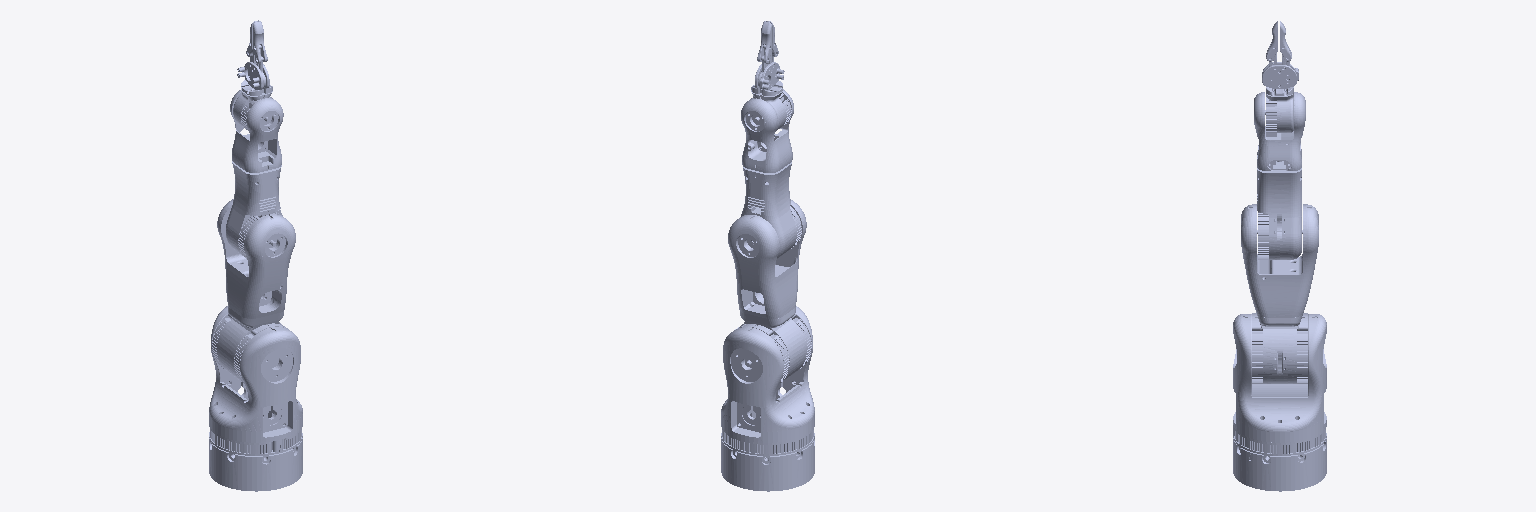
--- Render facts (derived) ---
The picture shows the robot from 3 angles, left to right: view 1: azimuth 30°, elevation 25°; view 2: azimuth 150°, elevation 25°; view 3: azimuth 270°, elevation 25°; orthographic projection.
Model rbx1_urdf with 15 links and 14 joints (8 revolute, 4 continuous, 2 fixed), rooted at base_footprint, posed every joint at zero.
Visible links, largest first — view 1: Link_1, Link_2, base_link, Link_4, Link_3, Link_Gripper, Link_5; view 2: Link_1, Link_2, base_link, Link_3, Link_4, Link_Gripper, Link_5; view 3: Link_2, Link_1, Link_3, base_link, Link_4, Link_5, Link_Gripper.
Boxes of the visible links, x1,y1,x2,y2 form: Link_1: (209,306,302,455); Link_2: (212,199,295,382); base_link: (209,438,302,491); Link_4: (230,90,283,172); Link_3: (226,161,282,258); Link_Gripper: (237,62,272,95); Link_5: (233,90,272,130); Link_1: (721,306,814,455); Link_2: (728,200,811,382); base_link: (721,438,814,491); Link_3: (741,162,801,258); Link_4: (741,90,793,172); Link_Gripper: (751,62,784,95); Link_5: (750,89,791,131); Link_2: (1241,204,1318,383); Link_1: (1233,314,1326,455); Link_3: (1257,168,1302,259); base_link: (1233,438,1326,491); Link_4: (1254,92,1305,170); Link_5: (1265,93,1293,132); Link_Gripper: (1262,62,1298,95).
Size in the robot's own frame: 0.16 by 0.16 by 0.8502 metres.
Meshes: 14 distinct files referenced, 14 mesh visuals loaded (14 binary STL).

robot.urdf — rbx1_urdf:
<robot name="rbx1_urdf">

    <link name="base_footprint" />

    <link name="base_link">
        <visual>
            <origin xyz="0 0 0" rpy="0 0 0" />
            <geometry>
                <mesh filename="package://rbx1_urdf/meshes/base_link.STL" />
            </geometry>
            <material name="">
                <color rgba="0.792156862745098 0.819607843137255 0.933333333333333 1" />
            </material>
        </visual>
        <collision>
            <origin xyz="0 0 0" rpy="0 0 0" />
            <geometry>
                <mesh filename="package://rbx1_urdf/meshes/base_link.STL" />
            </geometry>
        </collision>
        <inertial>
            <mass value="0.1" />
            <inertia ixx="0.03" iyy="0.03" izz="0.03" ixy="0.0" ixz="0.0" iyz="0.0" />
        </inertial>
    </link>
    <link name="Link_1">
        
        <inertial>
            <origin xyz="9.04997110390271E-05 -0.11835886489477 -1.03110880117219E-05" rpy="0 0 0" />
            <mass value="1.59870477698065" />
            <inertia ixx="0.00889558917774968" ixy="-9.83059909185543E-06" ixz="-1.11290572659371E-07" iyy="0.00628978480890219" iyz="2.53377512999986E-10" izz="0.0104429435232975" />
        </inertial>

        <visual>
            <origin xyz="0 0 0" rpy="0 0 0" />
            <geometry>
                <mesh filename="package://rbx1_urdf/meshes/Link_1.STL" />
            </geometry>
            <material name="">
                <color rgba="0.792156862745098 0.819607843137255 0.933333333333333 1" />
            </material>
        </visual>
        <collision>
            <origin xyz="0 0 0" rpy="0 0 0" />
            <geometry>
                <mesh filename="package://rbx1_urdf/meshes/Link_1.STL" />
            </geometry>
        </collision>
    </link>

    <joint name="Joint_0" type="fixed">
        <origin xyz="0 0 0.0309" />
        <parent link="base_footprint" />
        <child link="base_link" />
    </joint>

    <joint name="Joint_1" type="revolute">
        <origin xyz="0 0 0.0309" rpy="-1.5708 -3.8551E-17 1.5708" />
        <parent link="base_link" />
        <child link="Link_1" />
        <axis xyz="0 -1 0" />
        <limit lower="-2.0944" upper="2.0944" effort="0" velocity="0.2" />
    </joint>
    <link name="Link_2">
        
<inertial>
            <origin xyz="-0.0752469214973449 -0.000500019087013304 0.00801565213983907" rpy="0 0 0" />
            <mass value="1.79157969898053" />
            <inertia ixx="0.00352142476542667" ixy="-6.44382134269422E-05" ixz="0.00133900684156435" iyy="0.015584705901927" iyz="6.30277961531298E-06" izz="0.0160835270899943" />
        </inertial>

        <visual>
            <origin xyz="0 0 0" rpy="0 0 0" />
            <geometry>
                <mesh filename="package://rbx1_urdf/meshes/Link_2.STL" />
            </geometry>
            <material name="">
                <color rgba="0.792156862745098 0.819607843137255 0.933333333333333 1" />
            </material>
        </visual>
        <collision>
            <origin xyz="0 0 0" rpy="0 0 0" />
            <geometry>
                <mesh filename="package://rbx1_urdf/meshes/Link_2.STL" />
            </geometry>
        </collision>
    </link>
    <joint name="Joint_2" type="revolute">
        <origin xyz="0 -0.20101 0" rpy="-3.7985E-15 -0.11192 1.5708" />
        <parent link="Link_1" />
        <child link="Link_2" />
        <axis xyz="0 -1 0" />
        <limit lower="-2.2" upper="2.2" effort="0" velocity="0.2" />
    </joint>
    <link name="Link_3">
        
<inertial>
            <origin xyz="-0.023523909117978 -0.000262425638498542 0.0293343651247101" rpy="0 0 0" />
            <mass value="0.657902225276796" />
            <inertia ixx="0.00143523552046151" ixy="5.67208849821963E-06" ixz="0.000616952504524279" iyy="0.00196412953468847" iyz="-7.12192573745459E-06" izz="0.00115362138792626" />
        </inertial>

        <visual>
            <origin xyz="0 0 0" rpy="0 0 0" />
            <geometry>
                <mesh filename="package://rbx1_urdf/meshes/Link_3.STL" />
            </geometry>
            <material name="">
                <color rgba="0.792156862745098 0.819607843137255 0.933333333333333 1" />
            </material>
        </visual>
        <collision>
            <origin xyz="0 0 0" rpy="0 0 0" />
            <geometry>
                <mesh filename="package://rbx1_urdf/meshes/Link_3.STL" />
            </geometry>
        </collision>
    </link>
    <joint name="Joint_3" type="revolute">
        <origin xyz="-0.21989 0 0.023345" rpy="-3.138 1.0089 0.0028034" />
        <parent link="Link_2" />
        <child link="Link_3" />
        <axis xyz="0 1 0" />
        <limit lower="-2.0944" upper="2.0944" effort="0" velocity="0.2" />
    </joint>
    <link name="Link_4">
        
<inertial>
            <origin xyz="-0.000480737416575283 -0.112984441555406 -0.000795364680788613" rpy="0 0 0" />
            <mass value="0.262000579378337" />
            <inertia ixx="0.000528509489468703" ixy="5.97380313581293E-06" ixz="1.89930990415442E-05" iyy="0.000284758336308065" iyz="8.46523202702657E-06" izz="0.0006021862445562" />
        </inertial>

        <visual>
            <origin xyz="0 0 0" rpy="0 0 0" />
            <geometry>
                <mesh filename="package://rbx1_urdf/meshes/Link_4.STL" />
            </geometry>
            <material name="">
                <color rgba="0.792156862745098 0.819607843137255 0.933333333333333 1" />
            </material>
        </visual>
        <collision>
            <origin xyz="0 0 0" rpy="0 0 0" />
            <geometry>
                <mesh filename="package://rbx1_urdf/meshes/Link_4.STL" />
            </geometry>
        </collision>
    </link>
    <joint name="Joint_4" type="revolute">
        <origin xyz="-0.043107 -0.00047146 0.054003" rpy="-0.91055 -0.14511 -1.3867" />
        <parent link="Link_3" />
        <child link="Link_4" />
        <axis xyz="0 -1 0" />
        <limit lower="-3.14159" upper="3.14159" effort="0" velocity="0.2" />
    </joint>
    <link name="Link_5">
        
<inertial>
            <origin xyz="0.00035860029323162 0.000462370431148607 0.0012074660441439" rpy="0 0 0" />
            <mass value="0.129980261281605" />
            <inertia ixx="6.97993885726989E-05" ixy="-5.95275086351691E-08" ixz="7.69507223431339E-07" iyy="8.40300167150342E-05" iyz="7.6448541105621E-07" izz="7.060027819932E-05" />
        </inertial>

        <visual>
            <origin xyz="0 0 0" rpy="0 0 0" />
            <geometry>
                <mesh filename="package://rbx1_urdf/meshes/Link_5.STL" />
            </geometry>
            <material name="">
                <color rgba="0.792156862745098 0.819607843137255 0.933333333333333 1" />
            </material>
        </visual>
        <collision>
            <origin xyz="0 0 0" rpy="0 0 0" />
            <geometry>
                <mesh filename="package://rbx1_urdf/meshes/Link_5.STL" />
            </geometry>
        </collision>
    </link>
    <joint name="Joint_5" type="revolute">
        <origin xyz="0 -0.157 0" rpy="1.5654 1.3362 3.1361" />
        <parent link="Link_4" />
        <child link="Link_5" />
        <axis xyz="0 1 0" />
        <limit lower="-2.00713" upper="2.00713" effort="0" velocity="0.2" />
    </joint>
    <link name="Link_6">
        
<inertial>
            <origin xyz="-3.64212066061853E-09 0.0199999999996755 4.35396996234516E-11" rpy="0 0 0" />
            <mass value="0.00201061929829747" />
            <inertia ixx="2.7612505029952E-07" ixy="1.31945770970693E-16" ixz="2.64697796016969E-23" iyy="1.60849543863798E-08" iyz="2.07579092561171E-19" izz="2.76125050299521E-07" />
        </inertial>

        <visual>
            <origin xyz="0 0 0" rpy="0 0 0" />
            <geometry>
                <mesh filename="package://rbx1_urdf/meshes/Link_6.STL" />
            </geometry>
            <material name="">
                <color rgba="0.792156862745098 0.819607843137255 0.933333333333333 1" />
            </material>
        </visual>
        <collision>
            <origin xyz="0 0 0" rpy="0 0 0" />
            <geometry>
                <mesh filename="package://rbx1_urdf/meshes/Link_6.STL" />
            </geometry>
        </collision>
    </link>
    <joint name="Joint_6" type="revolute">
        <origin xyz="0 0 -0.0095" rpy="-1.5708 -1.214E-15 1.5692" />
        <parent link="Link_5" />
        <child link="Link_6" />
        <axis xyz="0 1 0" />
        <limit lower="-3.14159" upper="3.14159" effort="0" velocity="0.2" />
    </joint>
    <link name="Link_Gripper">
        
<inertial>
            <origin xyz="0.0144880330223051 0.0207918931252273 0.0465067040652264" rpy="0 0 0" />
            <mass value="0.0321023588672998" />
            <inertia ixx="9.36130788952155E-06" ixy="-2.09719874613005E-08" ixz="7.20375545414964E-08" iyy="1.49516550450015E-05" iyz="-1.25070144104161E-07" izz="1.13986305198369E-05" />
        </inertial>

        <visual>
            <origin xyz="0 0 0" rpy="0 0 0" />
            <geometry>
                <mesh filename="package://rbx1_urdf/meshes/Link_Gripper.STL" />
            </geometry>
            <material name="">
                <color rgba="0.792156862745098 0.819607843137255 0.933333333333333 1" />
            </material>
        </visual>
        <collision>
            <origin xyz="0 0 0" rpy="0 0 0" />
            <geometry>
                <mesh filename="package://rbx1_urdf/meshes/Link_Gripper.STL" />
            </geometry>
        </collision>
    </link>
    <joint name="Joint_Grippper" type="fixed">
        <origin xyz="-0.0148522442394708 0.00482931437037815 0.0202321887443363" rpy="-1.5707962336435 0.000305207132015297 0.000305207160447832" />
        <parent link="Link_6" />
        <child link="Link_Gripper" />
        <axis xyz="0 0 0" />
    </joint>
    <link name="Link_Grip_Servo">
        
<inertial>
            <origin xyz="-0.000594334300579258 0.005983834364434 0.00631487709029044" rpy="0 0 0" />
            <mass value="0.00497129327522806" />
            <inertia ixx="9.20870244901648E-07" ixy="4.69154879147571E-11" ixz="1.26120295947165E-07" iyy="1.14024663144967E-06" iyz="-5.07455228682936E-10" izz="2.49488890628528E-07" />
        </inertial>

        <visual>
            <origin xyz="0 0 0" rpy="0 0 0" />
            <geometry>
                <mesh filename="package://rbx1_urdf/meshes/Link_Grip_Servo.STL" />
            </geometry>
            <material name="">
                <color rgba="0.792156862745098 0.819607843137255 0.933333333333333 1" />
            </material>
        </visual>
        <collision>
            <origin xyz="0 0 0" rpy="0 0 0" />
            <geometry>
                <mesh filename="package://rbx1_urdf/meshes/Link_Grip_Servo.STL" />
            </geometry>
        </collision>
    </link>
    <joint name="Joint_Grip_Servo" type="revolute">
        <origin xyz="0.0288442213189702 0.0147280634416684 0.0521488006817585" rpy="-9.78475925314596E-13 0.147046128957204 -4.52061409598828E-11" />
        <parent link="Link_Gripper" />
        <child link="Link_Grip_Servo" />
        <axis xyz="0 -1 0" />
        <limit lower="-1.57" upper="0" effort="0" velocity="1" />
    </joint>
    <link name="Link_Tip_Servo">
        
<inertial>
            <origin xyz="-0.00687374723770617 0.00580780363510508 0.0279590371014581" rpy="0 0 0" />
            <mass value="0.0104818096913555" />
            <inertia ixx="4.08347146641829E-06" ixy="-2.81245202430779E-10" ixz="6.13523728266486E-07" iyy="4.0136353887785E-06" iyz="1.4485165977E-09" izz="5.56766974307777E-07" />
        </inertial>

        <visual>
            <origin xyz="0 0 0" rpy="0 0 0" />
            <geometry>
                <mesh filename="package://rbx1_urdf/meshes/Link_Tip_Servo.STL" />
            </geometry>
            <material name="">
                <color rgba="0.792156862745098 0.819607843137255 0.933333333333333 1" />
            </material>
        </visual>
        <collision>
            <origin xyz="0 0 0" rpy="0 0 0" />
            <geometry>
                <mesh filename="package://rbx1_urdf/meshes/Link_Tip_Servo.STL" />
            </geometry>
        </collision>
    </link>
    <joint name="Joint_Tip_Servo" type="continuous">
        <origin xyz="-0.00610696516498432 -5.00001000001971E-05 0.03952347753678" rpy="2.80583764371945E-17 -0.147046129464605 -1.12233505748778E-16" />
        <parent link="Link_Grip_Servo" />
        <child link="Link_Tip_Servo" />
        <axis xyz="0 -1 0" />
        <mimic joint="Joint_Grip_Servo" multiplier="-1" offset="0" />
    </joint>
    <link name="Link_Grip_Servo_Arm">
        
<inertial>
            <origin xyz="-0.000103223626561066 0.00675801833847722 0.0187976491011368" rpy="0 0 0" />
            <mass value="0.00173989739580927" />
            <inertia ixx="3.43670095248073E-07" ixy="7.90270100637066E-12" ixz="1.86120661607953E-09" iyy="3.43299019904848E-07" iyz="-1.37302465326624E-09" izz="1.16944532672955E-08" />
        </inertial>

        <visual>
            <origin xyz="0 0 0" rpy="0 0 0" />
            <geometry>
                <mesh filename="package://rbx1_urdf/meshes/Link_Grip_Servo_Arm.STL" />
            </geometry>
            <material name="">
                <color rgba="0.792156862745098 0.819607843137255 0.933333333333333 1" />
            </material>
        </visual>
        <collision>
            <origin xyz="0 0 0" rpy="0 0 0" />
            <geometry>
                <mesh filename="package://rbx1_urdf/meshes/Link_Grip_Servo_Arm.STL" />
            </geometry>
        </collision>
    </link>
    <joint name="Joint_Grip_Servo_Arm" type="continuous">
        <origin xyz="0.021868 0.013928 0.072163" rpy="-9.6792E-13 -5.074E-10 -4.5063E-11" />
        <parent link="Link_Gripper" />
        <child link="Link_Grip_Servo_Arm" />
        <axis xyz="0 -1 0" />
        <mimic joint="Joint_Grip_Servo" multiplier="1" offset="0" />
    </joint>
    <link name="Link_Grip_Idle">
        
<inertial>
            <origin xyz="-0.00634757711609413 -0.00298384858865508 0.000395237409143823" rpy="0 0 0" />
            <mass value="0.00498016375528581" />
            <inertia ixx="2.25141752744145E-07" ixy="-5.10672634206311E-10" ixz="-1.89202637077747E-08" iyy="1.1358426994906E-06" iyz="3.16054597956422E-11" izz="9.40852361525839E-07" />
        </inertial>

        <visual>
            <origin xyz="0 0 0" rpy="0 0 0" />
            <geometry>
                <mesh filename="package://rbx1_urdf/meshes/Link_Grip_Idle.STL" />
            </geometry>
            <material name="">
                <color rgba="0.792156862745098 0.819607843137255 0.933333333333333 1" />
            </material>
        </visual>
        <collision>
            <origin xyz="0 0 0" rpy="0 0 0" />
            <geometry>
                <mesh filename="package://rbx1_urdf/meshes/Link_Grip_Idle.STL" />
            </geometry>
        </collision>
    </link>
    <joint name="Joint_Grip_Idle" type="revolute">
        <origin xyz="0.00086097 0.017728 0.052166" rpy="3.1416 1.518 -6.3368E-11" />
        <parent link="Link_Gripper" />
        <child link="Link_Grip_Idle" />
        <axis xyz="0 1 0" />
        <limit lower="0" upper="1.57" effort="0" velocity="0" />
        <mimic joint="Joint_Grip_Servo" multiplier="-1" offset="0" />
    </joint>
    <link name="Link_Tip_Idle">
        
<inertial>
            <origin xyz="0.00695662732466618 0.00580776868603466 0.0279346725972899" rpy="0 0 0" />
            <mass value="0.0104817582171299" />
            <inertia ixx="4.07981789913299E-06" ixy="2.73246757803913E-10" ixz="-6.23772844990472E-07" iyy="4.01358546139554E-06" iyz="1.42084640005264E-09" izz="5.6036556496829E-07" />
        </inertial>

        <visual>
            <origin xyz="0 0 0" rpy="0 0 0" />
            <geometry>
                <mesh filename="package://rbx1_urdf/meshes/Link_Tip_Idle.STL" />
            </geometry>
            <material name="">
                <color rgba="0.792156862745098 0.819607843137255 0.933333333333333 1" />
            </material>
        </visual>
        <collision>
            <origin xyz="0 0 0" rpy="0 0 0" />
            <geometry>
                <mesh filename="package://rbx1_urdf/meshes/Link_Tip_Idle.STL" />
            </geometry>
        </collision>
    </link>
    <joint name="Joint_Tip_Idle" type="continuous">
        <origin xyz="-0.039996 0.00305 0" rpy="-3.1416 1.518 5.2565E-15" />
        <parent link="Link_Grip_Idle" />
        <child link="Link_Tip_Idle" />
        <axis xyz="0 -1 0" />
        <mimic joint="Joint_Grip_Idle" multiplier="-1" offset="0" />
    </joint>
    <link name="Link_Grip_Idle_Arm">
        
<inertial>
            <origin xyz="-0.00099272734528677 0.00675801833847731 0.0187717010221374" rpy="0 0 0" />
            <mass value="0.00173989739580927" />
            <inertia ixx="3.42750579739968E-07" ixy="7.28737451245267E-11" ixz="1.75463766178195E-08" iyy="3.43299019904854E-07" iyz="-1.37111216478893E-09" izz="1.2613968775406E-08" />
        </inertial>

        <visual>
            <origin xyz="0 0 0" rpy="0 0 0" />
            <geometry>
                <mesh filename="package://rbx1_urdf/meshes/Link_Grip_Idle_Arm.STL" />
            </geometry>
            <material name="">
                <color rgba="0.792156862745098 0.819607843137255 0.933333333333333 1" />
            </material>
        </visual>
        <collision>
            <origin xyz="0 0 0" rpy="0 0 0" />
            <geometry>
                <mesh filename="package://rbx1_urdf/meshes/Link_Grip_Idle_Arm.STL" />
            </geometry>
        </collision>
    </link>
    <joint name="Joint_Grip_Idle_Arm" type="continuous">
        <origin xyz="0.0078729 0.013928 0.072162" rpy="-9.6792E-13 -5.074E-10 -4.5063E-11" />
        <parent link="Link_Gripper" />
        <child link="Link_Grip_Idle_Arm" />
        <axis xyz="0 -1 0" />
        <mimic joint="Joint_Grip_Idle" multiplier="1" offset="0" />
    </joint>
    
<transmission name="trans_Joint_1">
        <type>transmission_interface/SimpleTransmission</type>
        <joint name="Joint_1">
            <hardwareInterface>hardware_interface/PositionJointInterface</hardwareInterface>
        </joint>
        <actuator name="Joint_1_motor">
            <hardwareInterface>hardware_interface/PositionJointInterface</hardwareInterface>
            <mechanicalReduction>1</mechanicalReduction>
        </actuator>
    </transmission>
    <transmission name="trans_Joint_2">
        <type>transmission_interface/SimpleTransmission</type>
        <joint name="Joint_2">
            <hardwareInterface>hardware_interface/PositionJointInterface</hardwareInterface>
        </joint>
        <actuator name="Joint_2_motor">
            <hardwareInterface>hardware_interface/PositionJointInterface</hardwareInterface>
            <mechanicalReduction>1</mechanicalReduction>
        </actuator>
    </transmission>
    <transmission name="trans_Joint_3">
        <type>transmission_interface/SimpleTransmission</type>
        <joint name="Joint_3">
            <hardwareInterface>hardware_interface/PositionJointInterface</hardwareInterface>
        </joint>
        <actuator name="Joint_3_motor">
            <hardwareInterface>hardware_interface/PositionJointInterface</hardwareInterface>
            <mechanicalReduction>1</mechanicalReduction>
        </actuator>
    </transmission>
    <transmission name="trans_Joint_4">
        <type>transmission_interface/SimpleTransmission</type>
        <joint name="Joint_4">
            <hardwareInterface>hardware_interface/PositionJointInterface</hardwareInterface>
        </joint>
        <actuator name="Joint_4_motor">
            <hardwareInterface>hardware_interface/PositionJointInterface</hardwareInterface>
            <mechanicalReduction>1</mechanicalReduction>
        </actuator>
    </transmission>
    <transmission name="trans_Joint_5">
        <type>transmission_interface/SimpleTransmission</type>
        <joint name="Joint_5">
            <hardwareInterface>hardware_interface/PositionJointInterface</hardwareInterface>
        </joint>
        <actuator name="Joint_5_motor">
            <hardwareInterface>hardware_interface/PositionJointInterface</hardwareInterface>
            <mechanicalReduction>1</mechanicalReduction>
        </actuator>
    </transmission>
    <transmission name="trans_Joint_6">
        <type>transmission_interface/SimpleTransmission</type>
        <joint name="Joint_6">
            <hardwareInterface>hardware_interface/PositionJointInterface</hardwareInterface>
        </joint>
        <actuator name="Joint_6_motor">
            <hardwareInterface>hardware_interface/PositionJointInterface</hardwareInterface>
            <mechanicalReduction>1</mechanicalReduction>
        </actuator>
    </transmission>
    <transmission name="trans_Joint_Grip_Servo">
        <type>transmission_interface/SimpleTransmission</type>
        <joint name="Joint_Grip_Servo">
            <hardwareInterface>hardware_interface/PositionJointInterface</hardwareInterface>
        </joint>
        <actuator name="Joint_Grip_Servo_motor">
            <hardwareInterface>hardware_interface/PositionJointInterface</hardwareInterface>
            <mechanicalReduction>1</mechanicalReduction>
        </actuator>
    </transmission>
    <transmission name="trans_Joint_Tip_Servo">
        <type>transmission_interface/SimpleTransmission</type>
        <joint name="Joint_Tip_Servo">
            <hardwareInterface>hardware_interface/EffortJointInterface</hardwareInterface>
        </joint>
        <actuator name="Joint_Tip_Servo_motor">
            <hardwareInterface>hardware_interface/EffortJointInterface</hardwareInterface>
            <mechanicalReduction>1</mechanicalReduction>
        </actuator>
    </transmission>
    <transmission name="trans_Joint_Grip_Servo_Arm">
        <type>transmission_interface/SimpleTransmission</type>
        <joint name="Joint_Grip_Servo_Arm">
            <hardwareInterface>hardware_interface/EffortJointInterface</hardwareInterface>
        </joint>
        <actuator name="Joint_Grip_Servo_Arm_motor">
            <hardwareInterface>hardware_interface/EffortJointInterface</hardwareInterface>
            <mechanicalReduction>1</mechanicalReduction>
        </actuator>
    </transmission>
    <transmission name="trans_Joint_Grip_Idle">
        <type>transmission_interface/SimpleTransmission</type>
        <joint name="Joint_Grip_Idle">
            <hardwareInterface>hardware_interface/EffortJointInterface</hardwareInterface>
        </joint>
        <actuator name="Joint_Grip_Idle_motor">
            <hardwareInterface>hardware_interface/EffortJointInterface</hardwareInterface>
            <mechanicalReduction>1</mechanicalReduction>
        </actuator>
    </transmission>
    <transmission name="trans_Joint_Tip_Idle">
        <type>transmission_interface/SimpleTransmission</type>
        <joint name="Joint_Tip_Idle">
            <hardwareInterface>hardware_interface/EffortJointInterface</hardwareInterface>
        </joint>
        <actuator name="Joint_Tip_Idle_motor">
            <hardwareInterface>hardware_interface/EffortJointInterface</hardwareInterface>
            <mechanicalReduction>1</mechanicalReduction>
        </actuator>
    </transmission>
    <transmission name="trans_Joint_Grip_Idle_Arm">
        <type>transmission_interface/SimpleTransmission</type>
        <joint name="Joint_Grip_Idle_Arm">
            <hardwareInterface>hardware_interface/EffortJointInterface</hardwareInterface>
        </joint>
        <actuator name="Joint_Grip_Idle_Arm_motor">
            <hardwareInterface>hardware_interface/EffortJointInterface</hardwareInterface>
            <mechanicalReduction>1</mechanicalReduction>
        </actuator>
    </transmission>
    <gazebo>
        <plugin name="gazebo_ros_control" filename="libgazebo_ros_control.so">
            <robotNamespace>/rbx1_urdf</robotNamespace>
        </plugin>
    </gazebo>
</robot>
